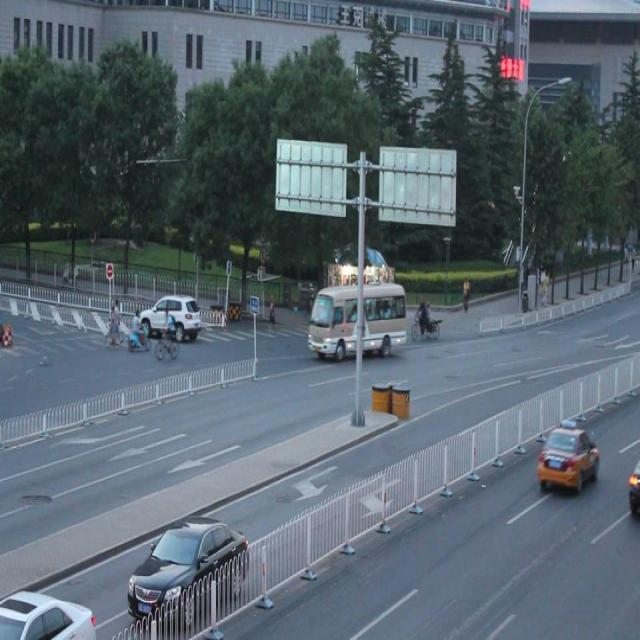car: (129, 516, 248, 630), (1, 588, 97, 640), (536, 420, 599, 488), (138, 294, 200, 344), (622, 446, 640, 507)
truck: (309, 279, 406, 359)
